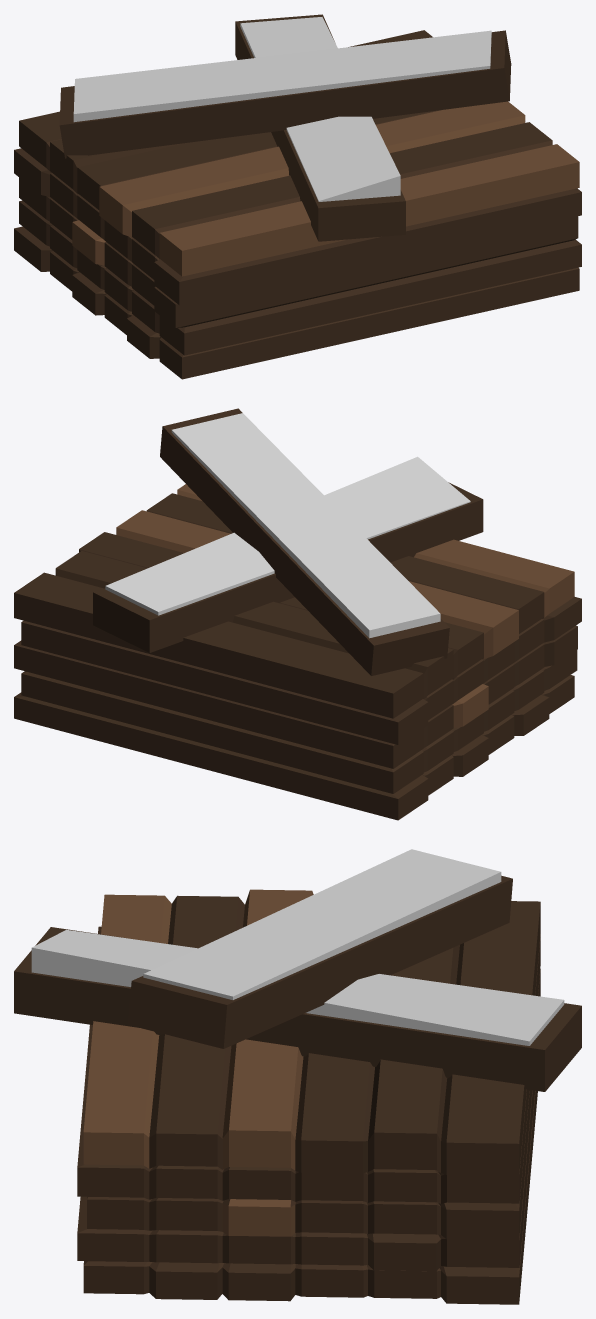
The model's file is wood_1_snow_mat.fbx.
The picture shows the model from 3 angles, top to bottom: view 1: azimuth 30°, elevation 25°; view 2: azimuth 150°, elevation 25°; view 3: azimuth 270°, elevation 25°; orthographic projection. The views are drawn at different scales.
Visible parts, largest first — view 1: wood_1_snow_mat; view 2: wood_1_snow_mat; view 3: wood_1_snow_mat.
Part boxes in pixels (x1,y1,x2,y2): wood_1_snow_mat: (14,14,581,379); wood_1_snow_mat: (14,408,581,820); wood_1_snow_mat: (14,849,581,1304).
Size of the model in its own units: 114 by 58.69 by 108.
